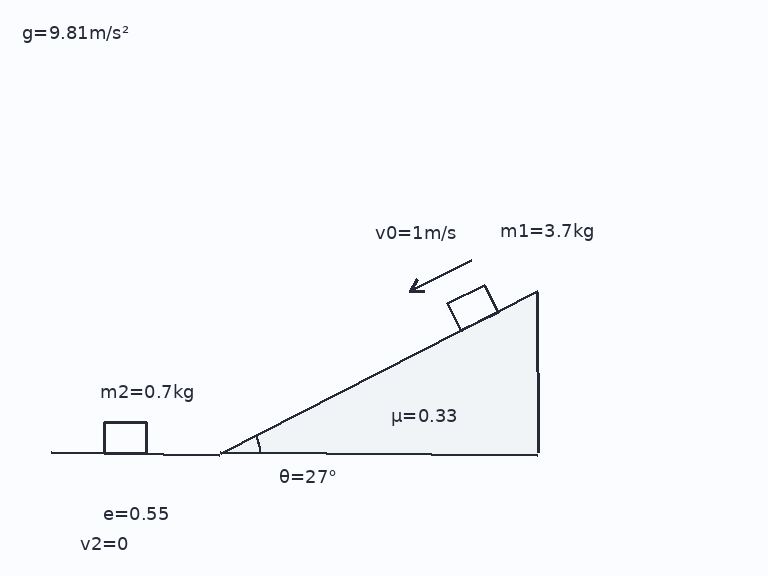block: (445, 282, 500, 333), (102, 420, 148, 455)
ramp: (218, 289, 539, 455)
